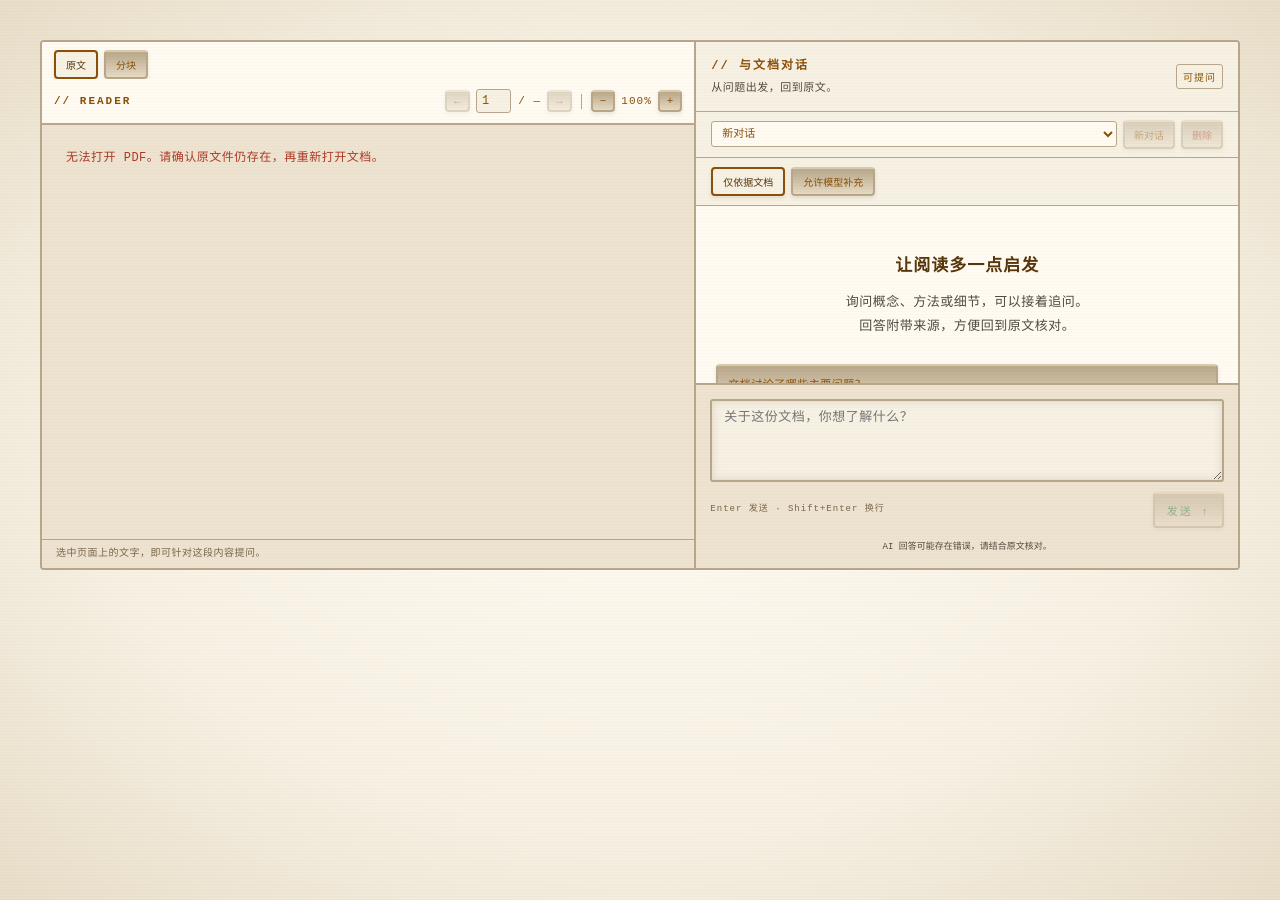
Test: shows pending state and recovers from an API error without losing the question
Later steps or results of the test are not shown.
Type "Explain attention" into the text box.
click(967, 440); type("Explain attention")  # box [710,399,1224,482]
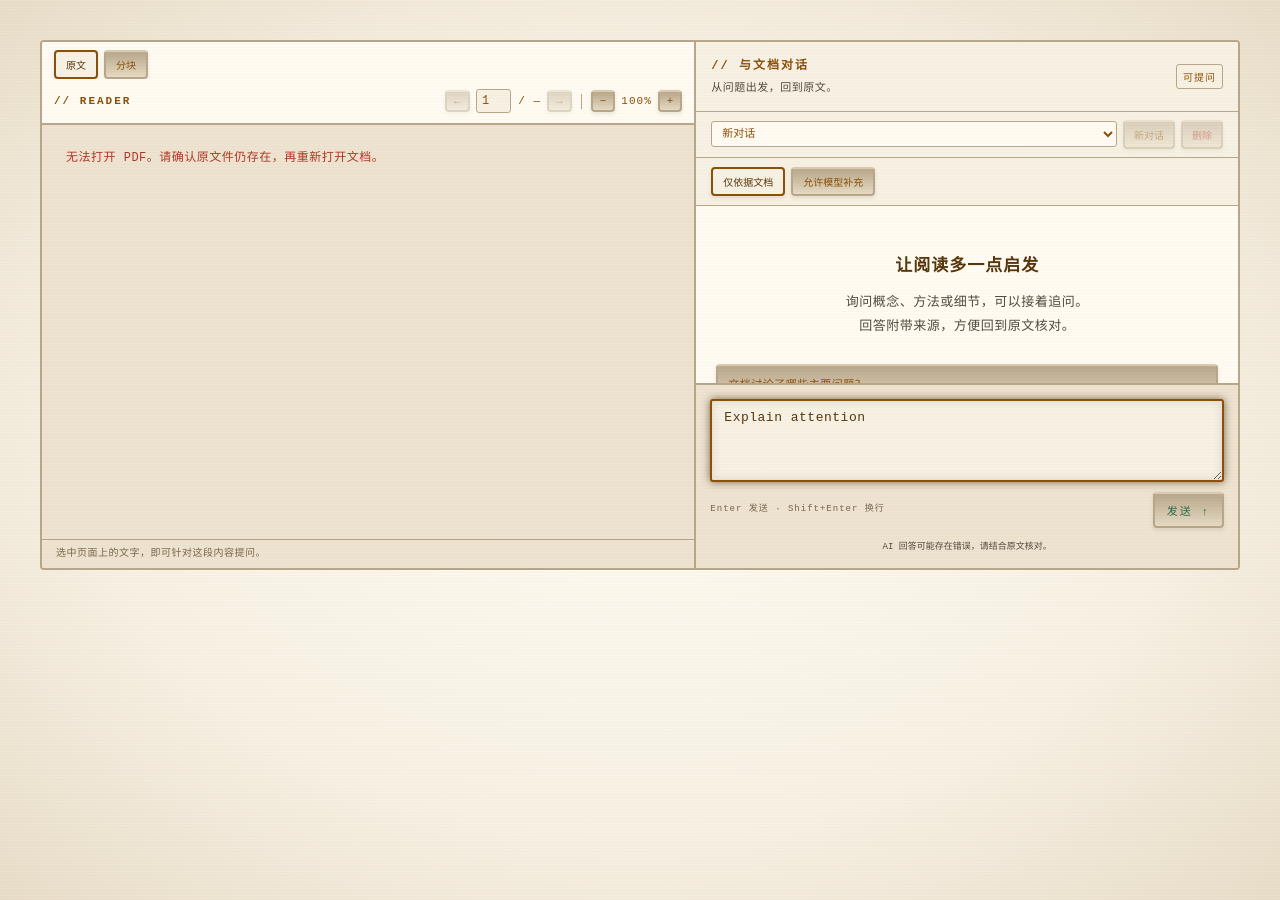
Click the button "发送 ↑".
click(1188, 510)  # box [1153,492,1224,528]
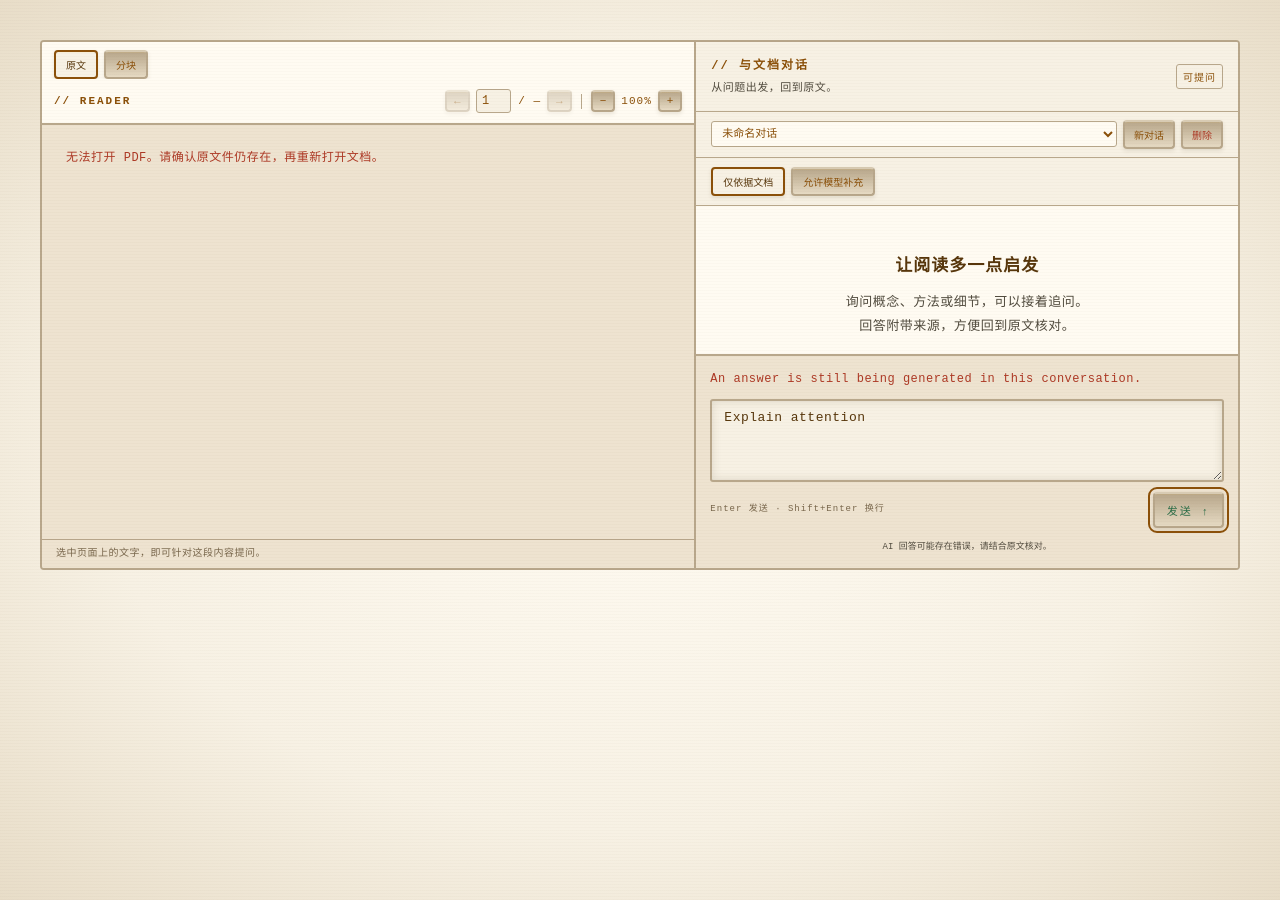
Expected: the button "发送 ↑" is enabled, [1153,492,1224,528]
Expected: the message shows "still being generated", [710,372,1142,386]
